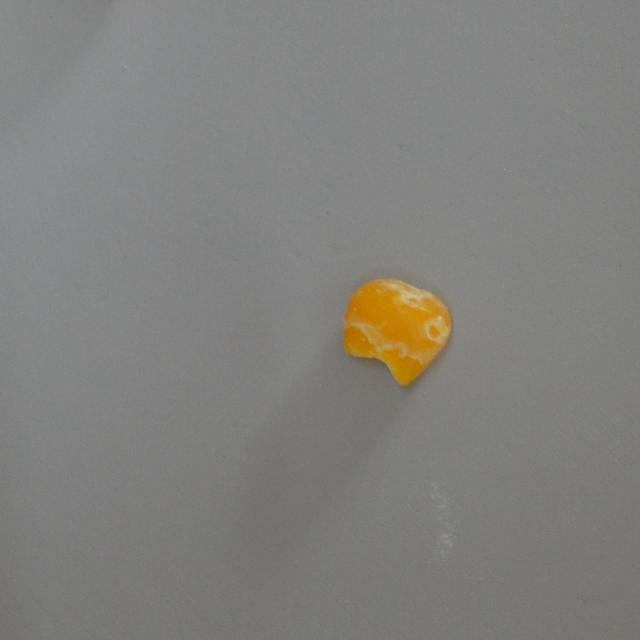pelicula: (341, 275, 452, 386)
